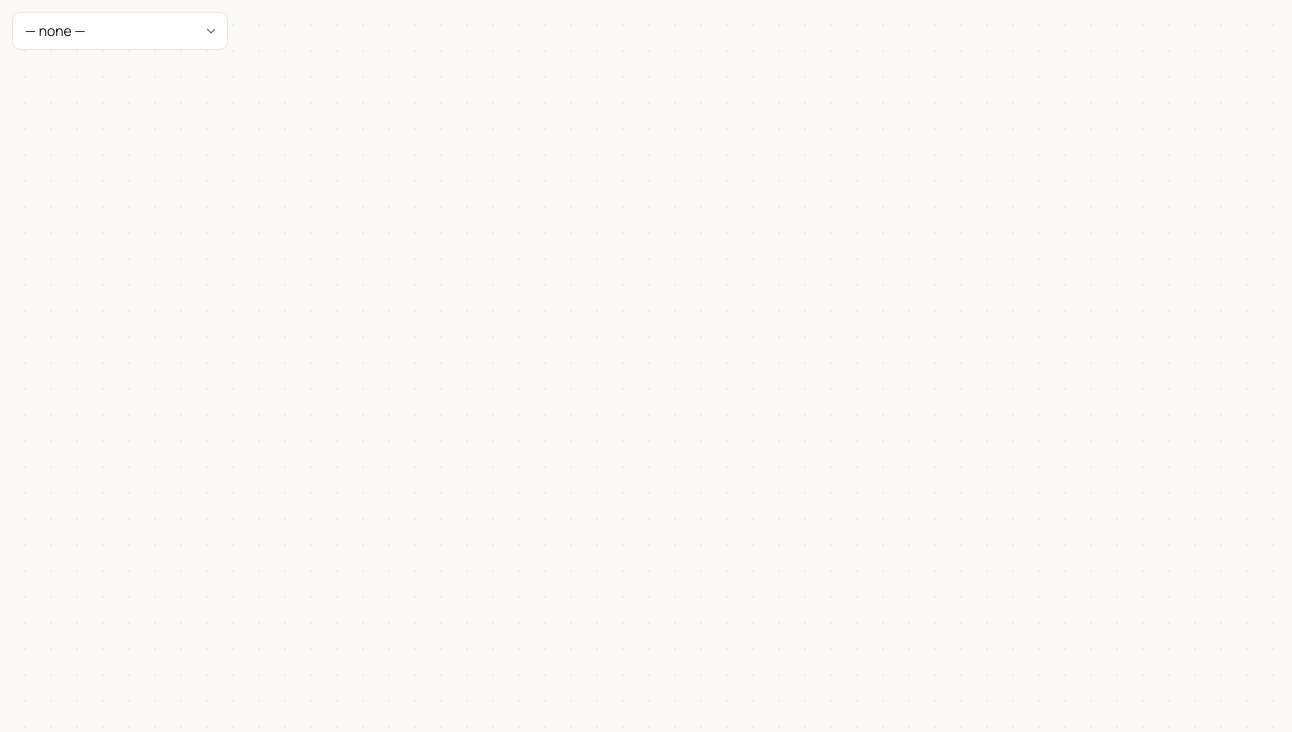
it: SearchSelect › opens the full list on click
Click the dropdown named "Linked vacancy". click: (120, 31)
box: [12, 12, 228, 50]
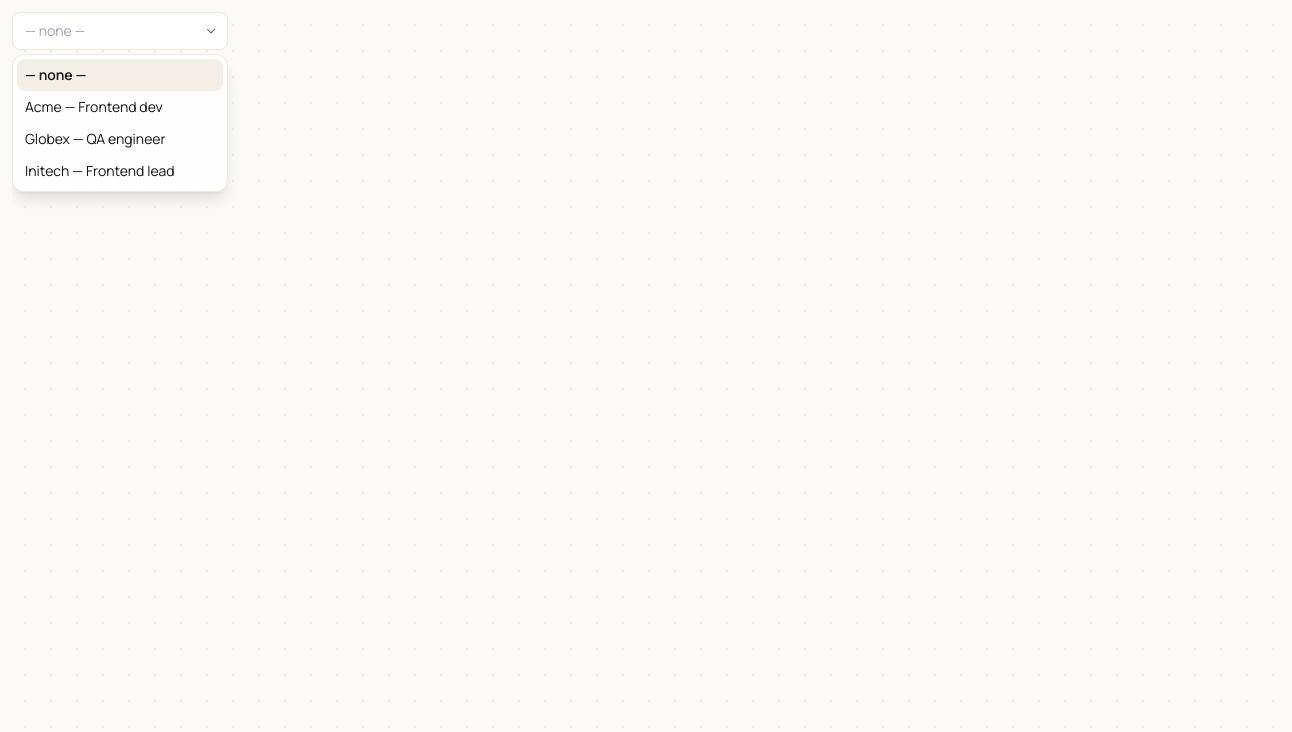
Check: the number of options is 4, box [17, 59, 223, 91]; [17, 91, 223, 123]; [17, 123, 223, 155]; [17, 155, 223, 187]
